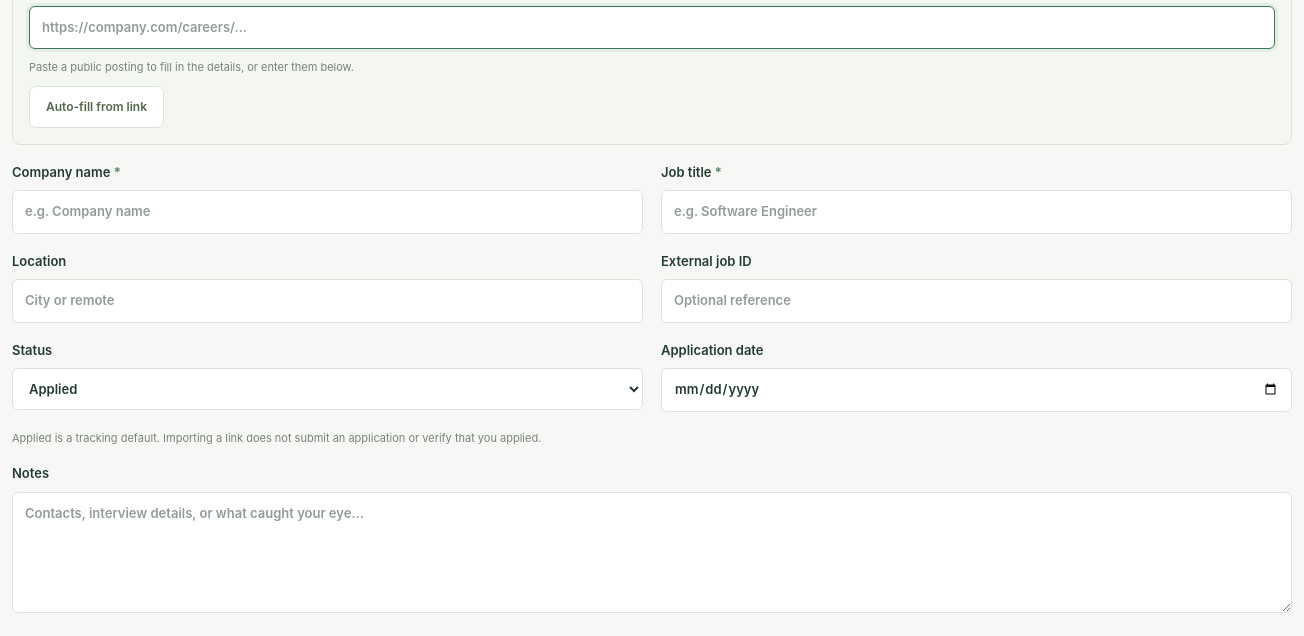
keeps missing fields and personal notes intact
Type "Entered manually" into the field labelled "Company name *".
click(328, 212); type("Entered manually")  # box [12,190,643,234]
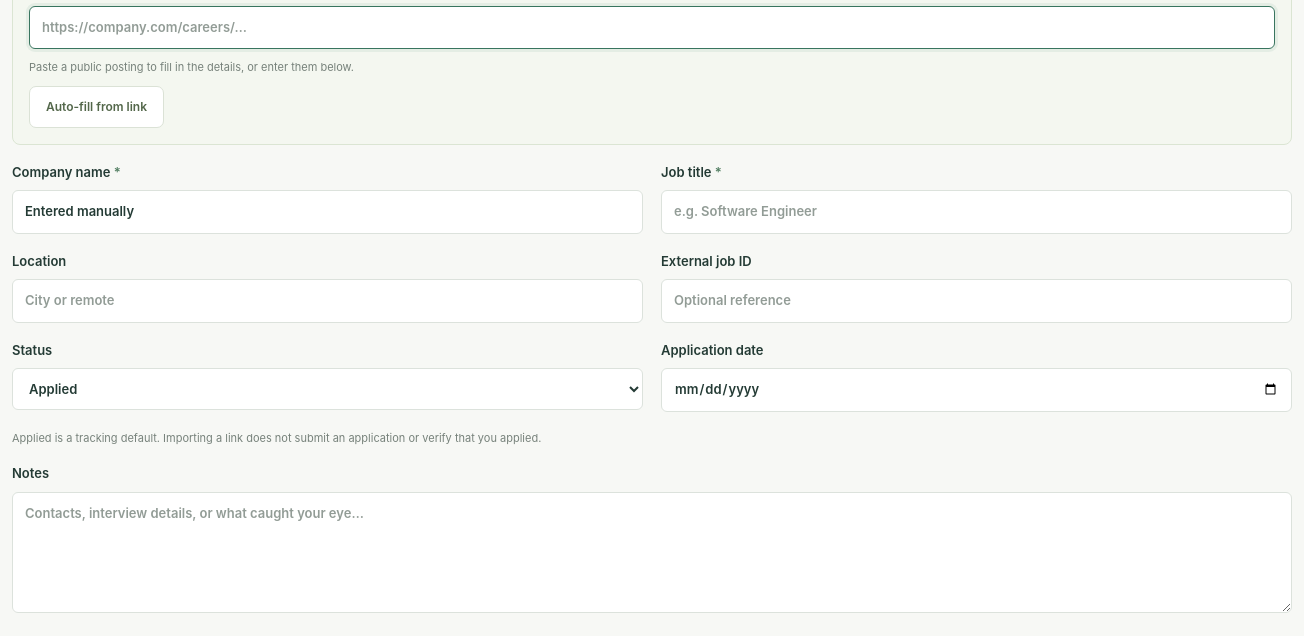
Type "Interview contact" into the text box labelled "Notes".
click(652, 552); type("Interview contact")  # box [12,492,1292,613]
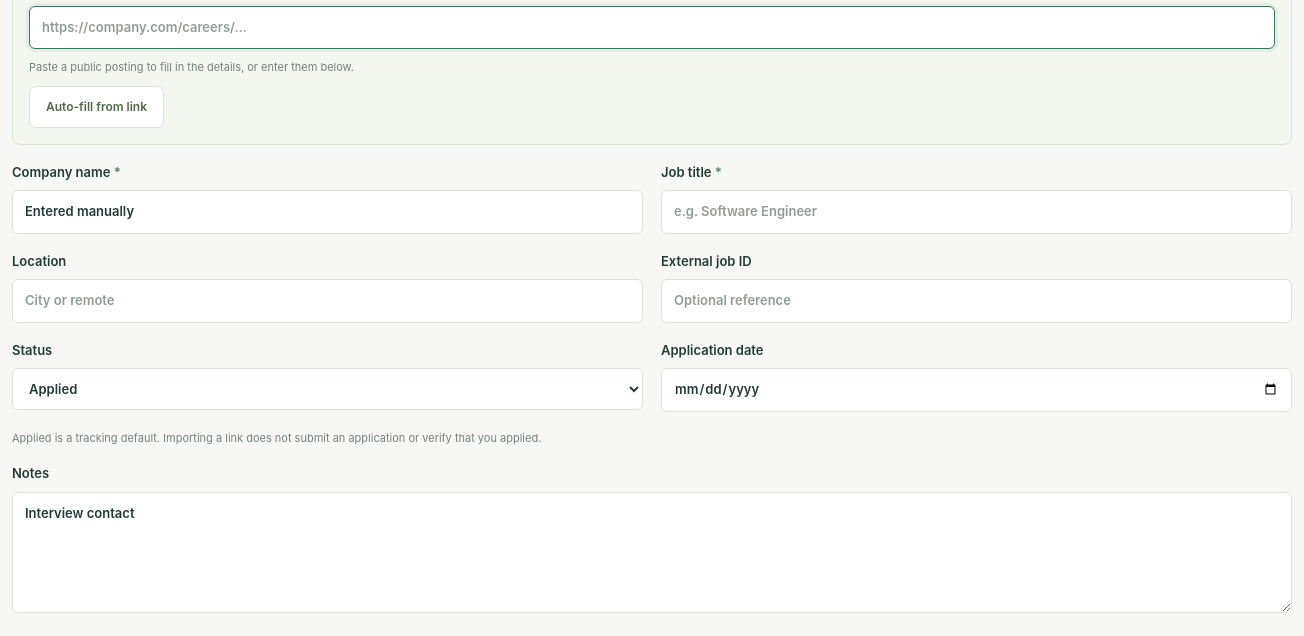
Type "https://example.com/jobs/42?utm_source=test" into the field labelled "Job URL".
click(652, 27); type("https://example.com/jobs/42?utm_source=test")  # box [29,6,1275,49]
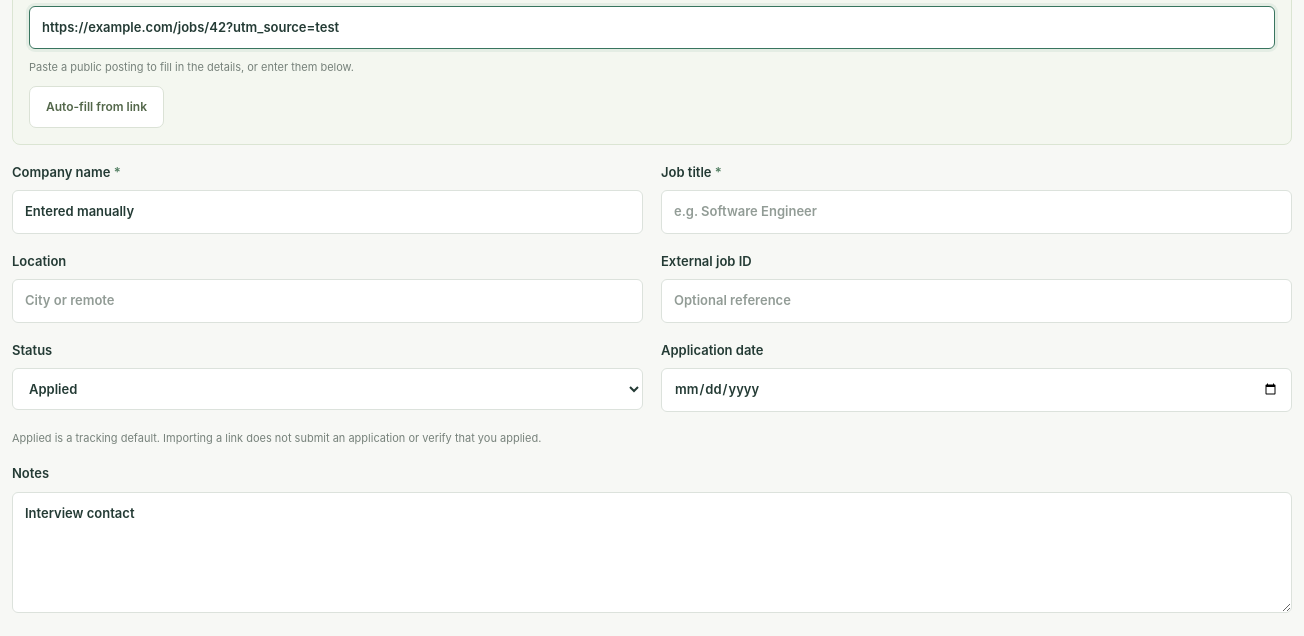
Click the button "Auto-fill from link".
click(96, 106)  # box [29,86,164,128]
(page scrolled)
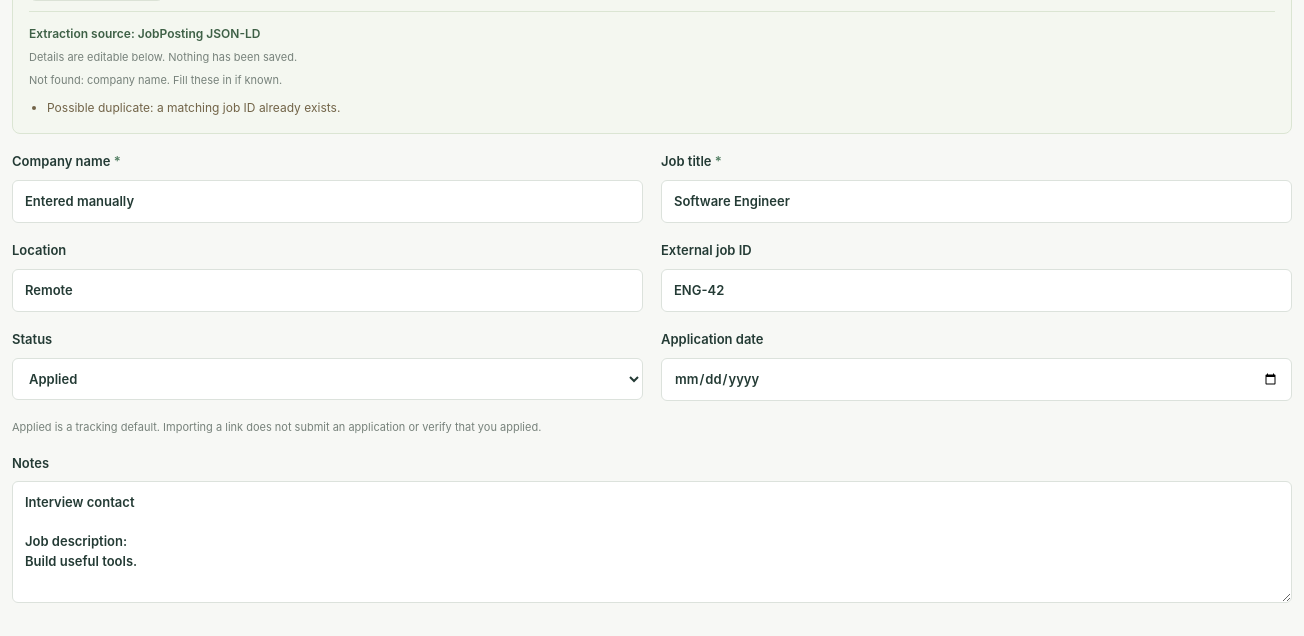
Expected: the text "Not found: company name. Fill these in if known." is shown, [29,73,282,87]
